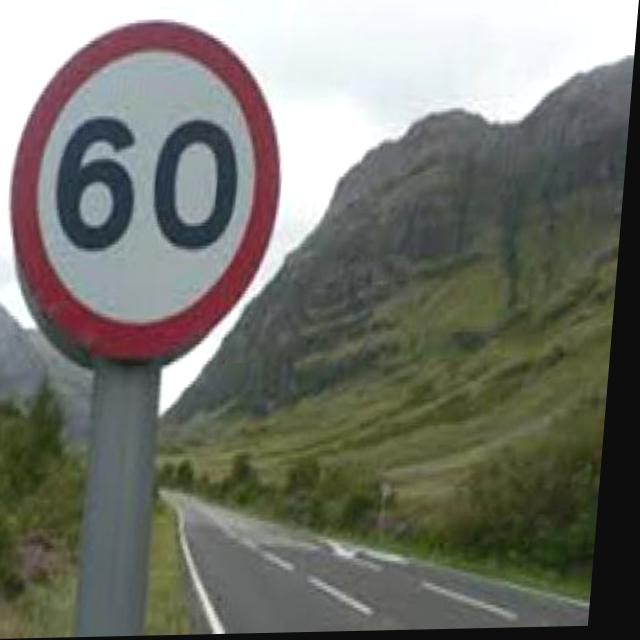limit60: (0, 5, 300, 372)
